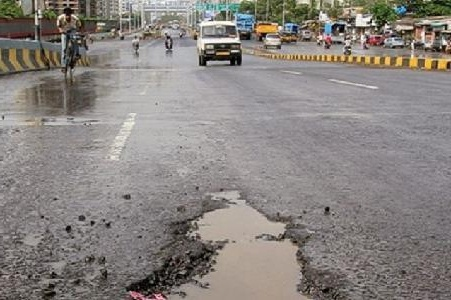pothole: (122, 194, 347, 299)
